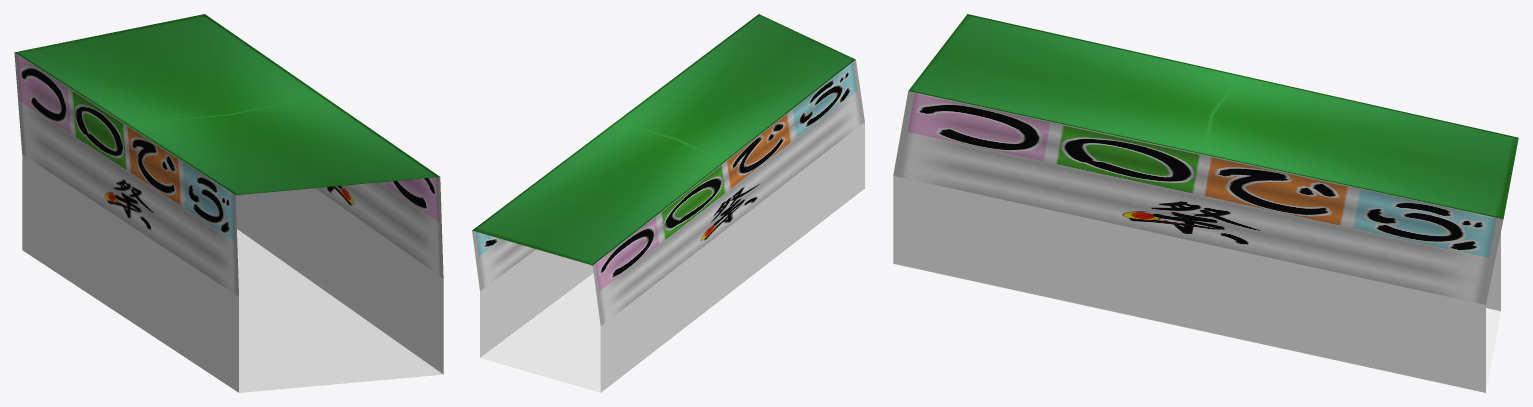
Rendered from CourseWinter_Wall_R_8_10.fbx.
The picture shows the model from 3 angles, left to right: view 1: azimuth 30°, elevation 25°; view 2: azimuth 150°, elevation 25°; view 3: azimuth 270°, elevation 25°; orthographic projection. The views are drawn at different scales.
Parts seen in each view (by area): view 1: polySurface478; view 2: polySurface478; view 3: polySurface478.
Boxes of the visible parts, x1=… form: polySurface478: x1=14, y1=14, x2=443, y2=392; polySurface478: x1=472, y1=14, x2=864, y2=392; polySurface478: x1=893, y1=14, x2=1518, y2=392.
Size of the model in its own units: 2.9 by 2.99 by 6.44.
1 material, 1 textured.
